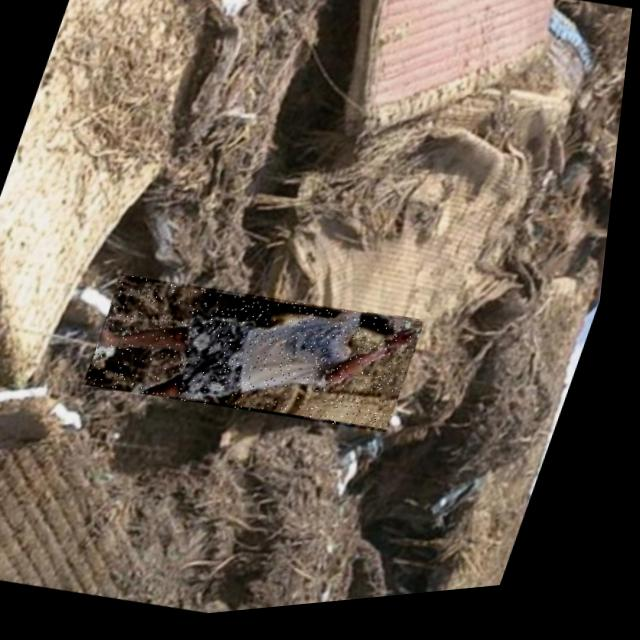Person in Rubble: (84, 253, 439, 465)
